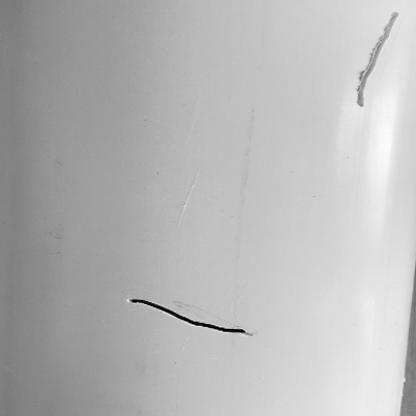fengxi: (124, 297, 252, 339)
sunshang: (358, 12, 400, 110)
